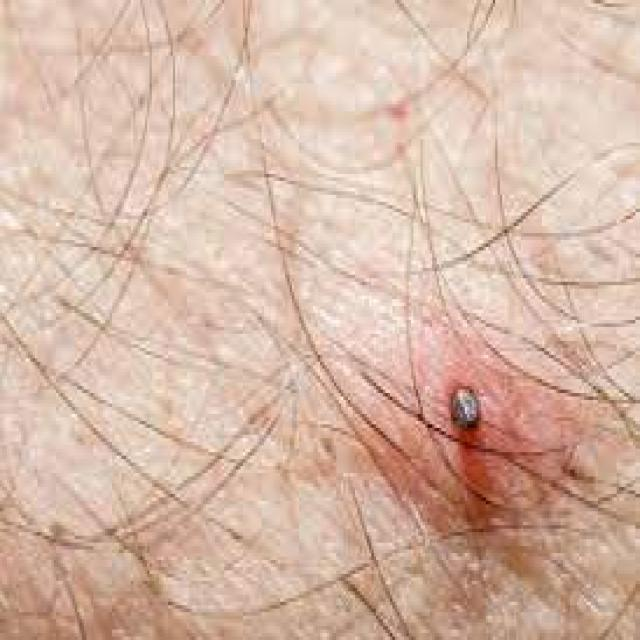kene: (414, 360, 515, 482)
